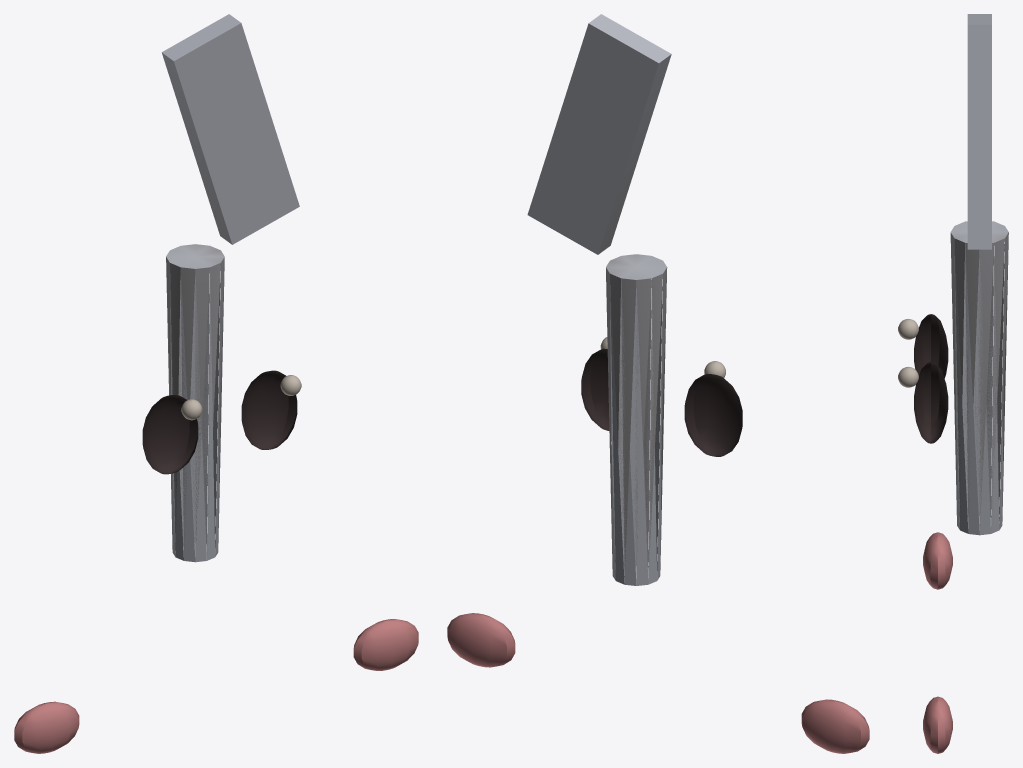
3 renders of one model, left to right at view 1: azimuth 30°, elevation 25°; view 2: azimuth 150°, elevation 25°; view 3: azimuth 270°, elevation 25°, orthographic. The views are drawn at different scales.
Visible parts, largest first — view 1: pet_p92ed5d34; view 2: pet_p92ed5d34; view 3: pet_p92ed5d34.
Part boxes in pixels (box(x1,y1,x2,y2)): pet_p92ed5d34: box(14, 14, 418, 753); pet_p92ed5d34: box(447, 14, 869, 753); pet_p92ed5d34: box(898, 14, 1008, 753).
Size of the model in its own units: 0.2861 by 0.4506 by 0.0684.
